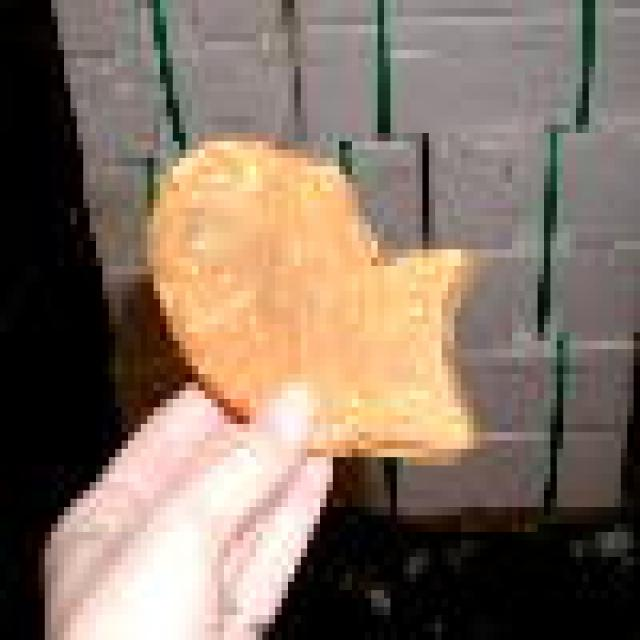熟制海鲜: (134, 125, 480, 490)
